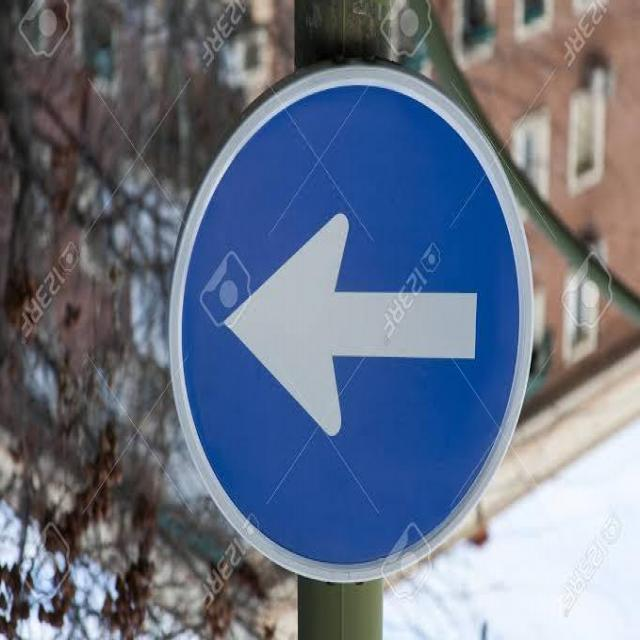Turn Left: (181, 49, 526, 585)
